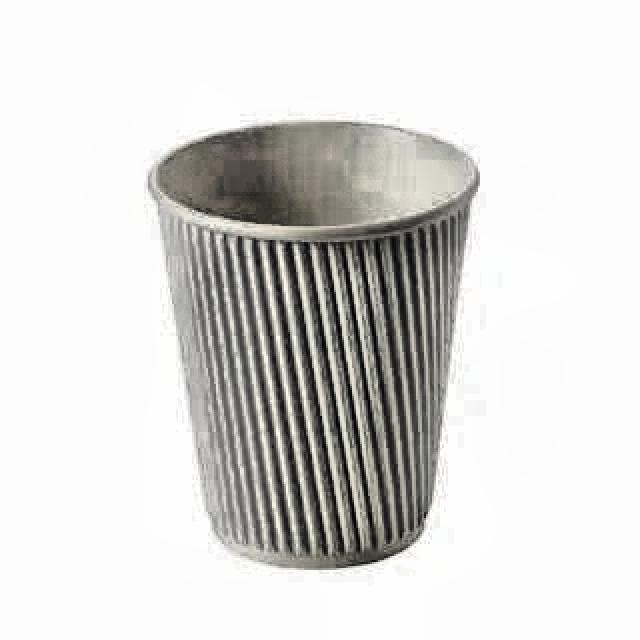Cup: (121, 112, 482, 576)
